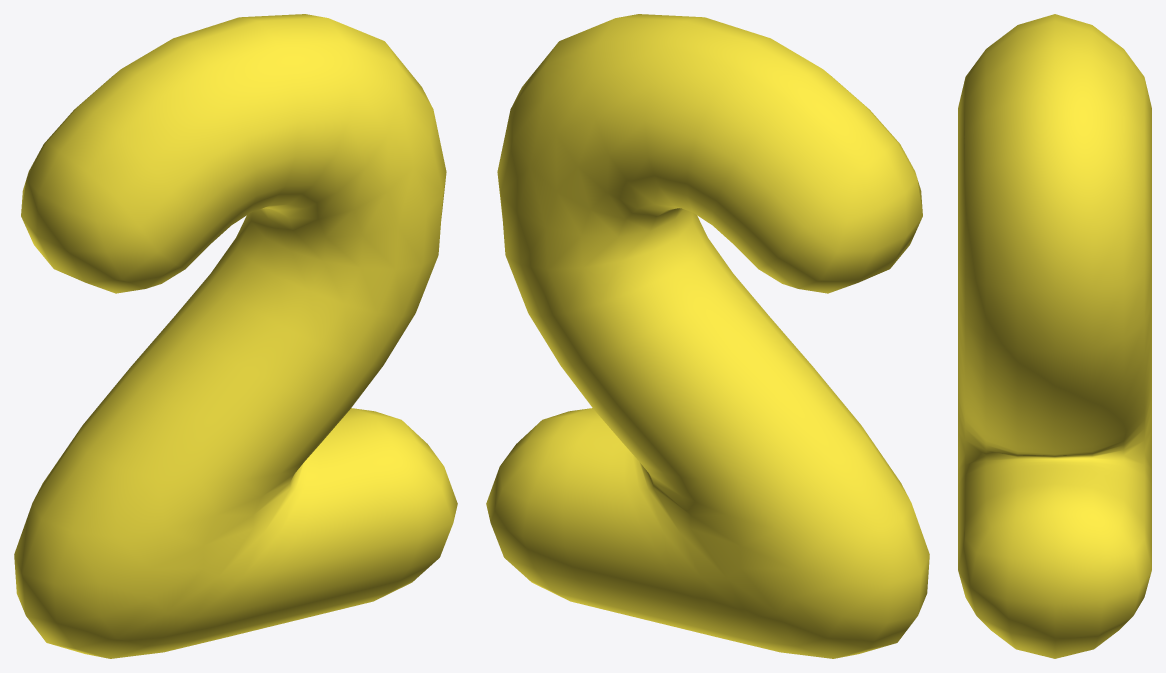
3 renders of one model, left to right at view 1: azimuth 30°, elevation 25°; view 2: azimuth 150°, elevation 25°; view 3: azimuth 270°, elevation 25°, orthographic. The views are drawn at different scales.
Parts seen in each view (by area): view 1: 2_wire_115115115_0; view 2: 2_wire_115115115_0; view 3: 2_wire_115115115_0.
Boxes of the visible parts, left/top/right/bottom form: 2_wire_115115115_0: left=14, top=14, right=457, bottom=658; 2_wire_115115115_0: left=486, top=14, right=929, bottom=658; 2_wire_115115115_0: left=958, top=14, right=1151, bottom=658.
Bounding box in the file's own units: 36.37 × 49.74 × 15.62.
